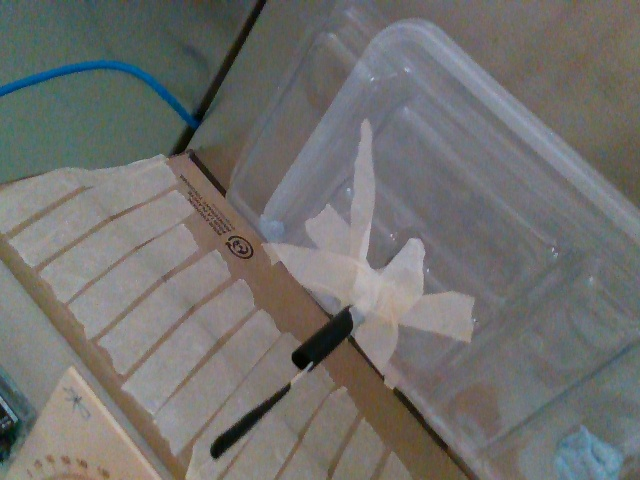test_strip: (209, 360, 311, 460)
